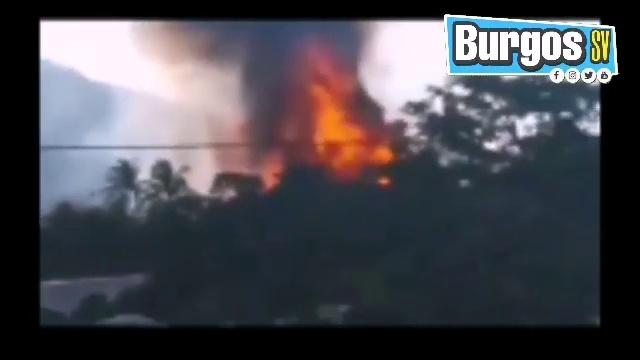fire: (304, 95, 393, 172)
